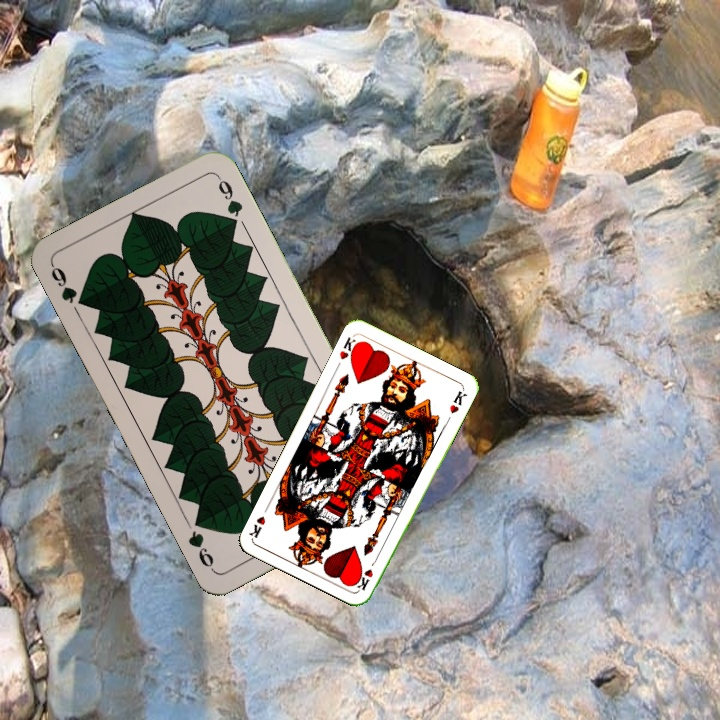G9: (46, 261, 91, 310)
HK: (353, 554, 380, 593), (335, 332, 363, 363)
